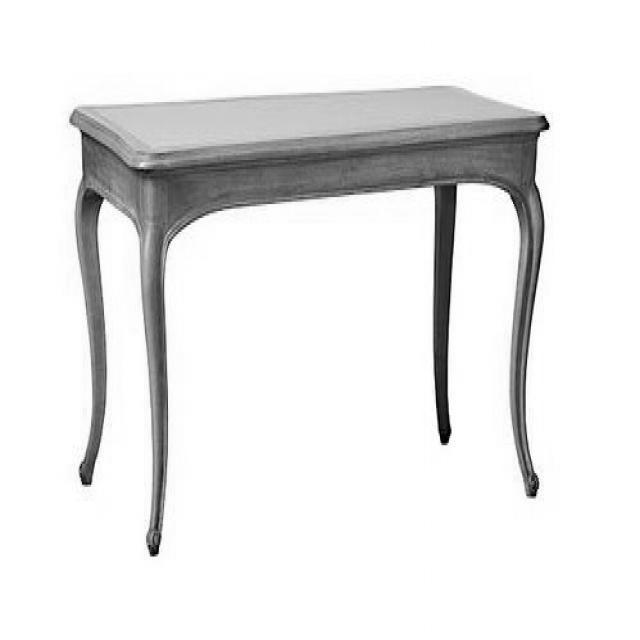table: (68, 85, 550, 567)
